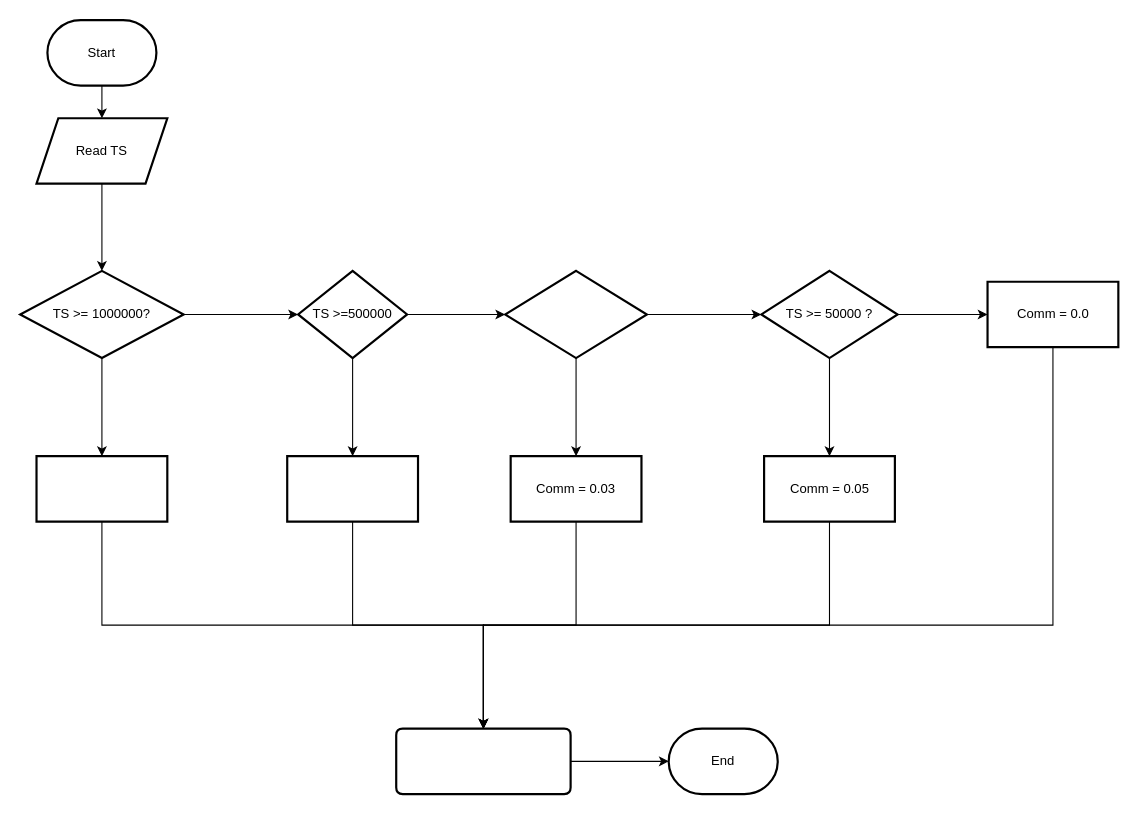
This 1138x813 diagram has some shape labels left out. The shapes that lost their labels are listed below. From the top down, each one's box as (x1, y1, x2, y2) in pixels, then its label:
(504, 269, 647, 359): TS >= 100000 ?
(35, 455, 168, 522): Comm = 0.01
(286, 455, 419, 522): Comm = 0.02
(395, 727, 571, 795): TComm = TS * Comm
